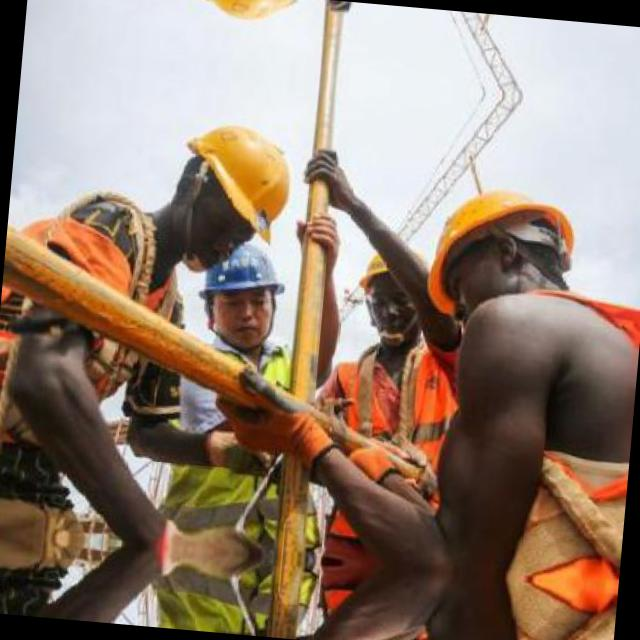helmet: (413, 165, 598, 328), (161, 104, 307, 274), (186, 227, 290, 352), (354, 244, 433, 347), (182, 0, 319, 42)
